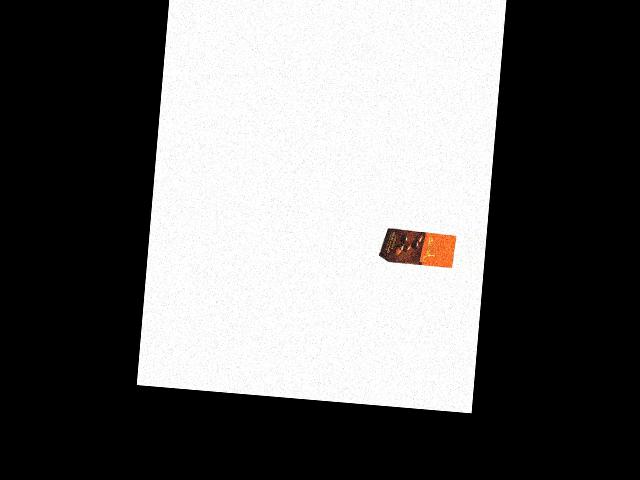chocolate: (378, 223, 456, 269)
